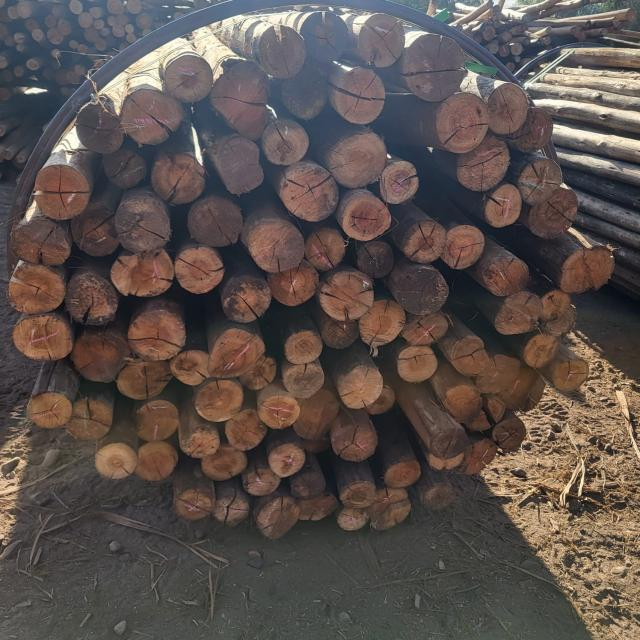package: (10, 13, 612, 536)
